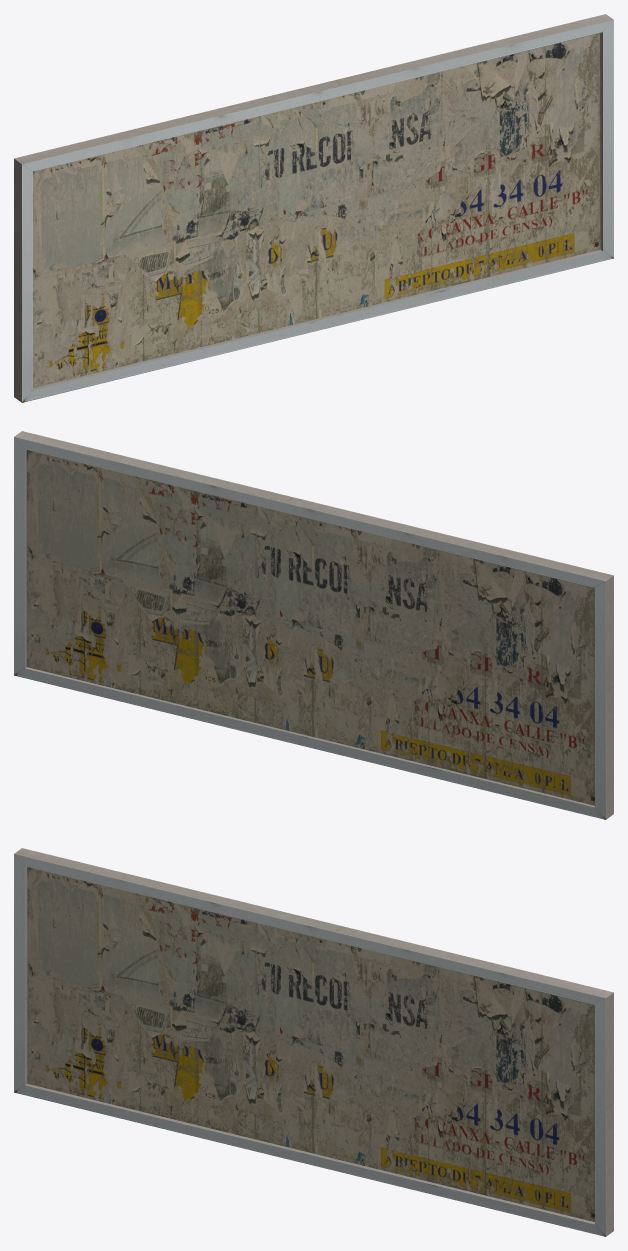
The model's file is poster2.fbx.
The picture shows the model from 3 angles, top to bottom: view 1: azimuth 30°, elevation 25°; view 2: azimuth 150°, elevation 25°; view 3: azimuth 330°, elevation 25°; orthographic projection.
Parts seen in each view (by area): view 1: Mesh; view 2: Mesh; view 3: Mesh.
Boxes of the visible parts, x1,y1,x2,y2 form: Mesh: (14, 14, 613, 402); Mesh: (14, 431, 613, 819); Mesh: (14, 848, 613, 1236).
Size of the model in its own units: 382 by 147 by 9.
